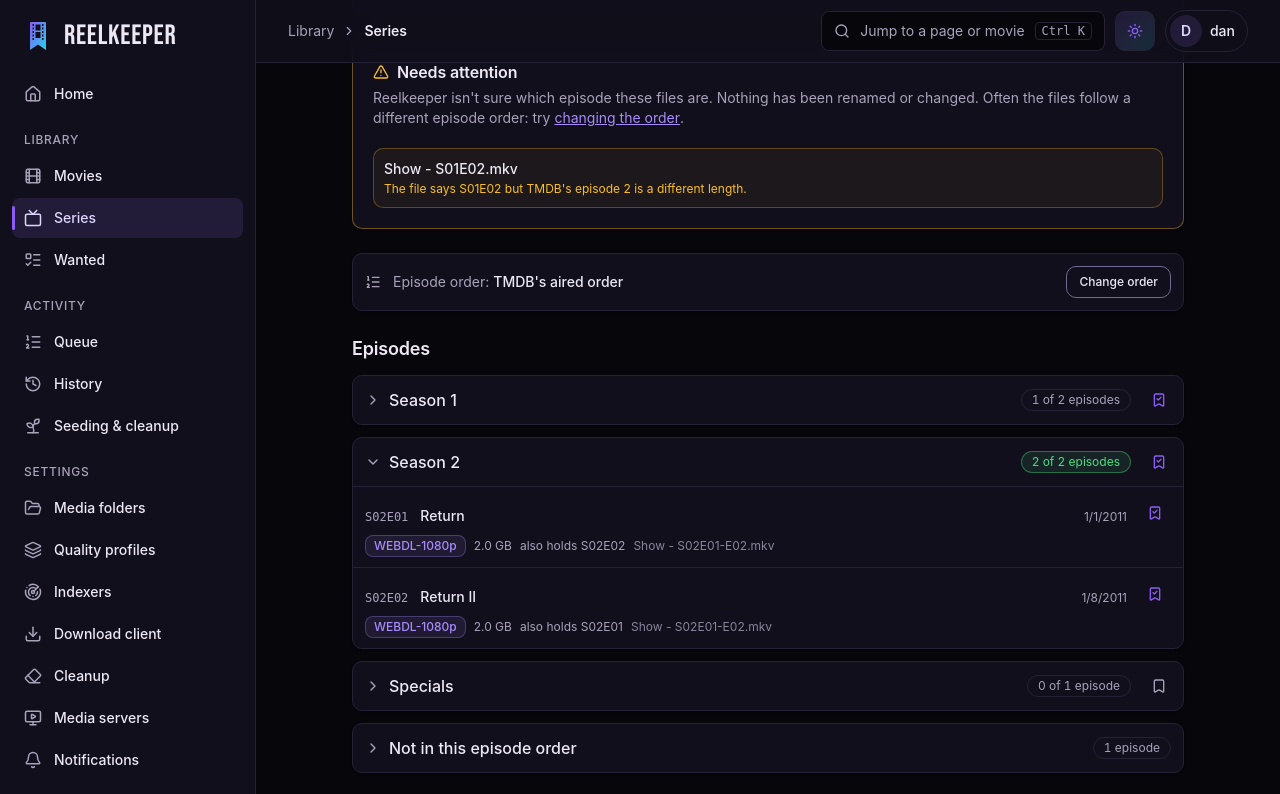
Test: series page › marks missing files
(page scrolled)
Click the button "Season 1 1 of 2 episodes". click: [423, 400]
box: [353,376,1143,424]
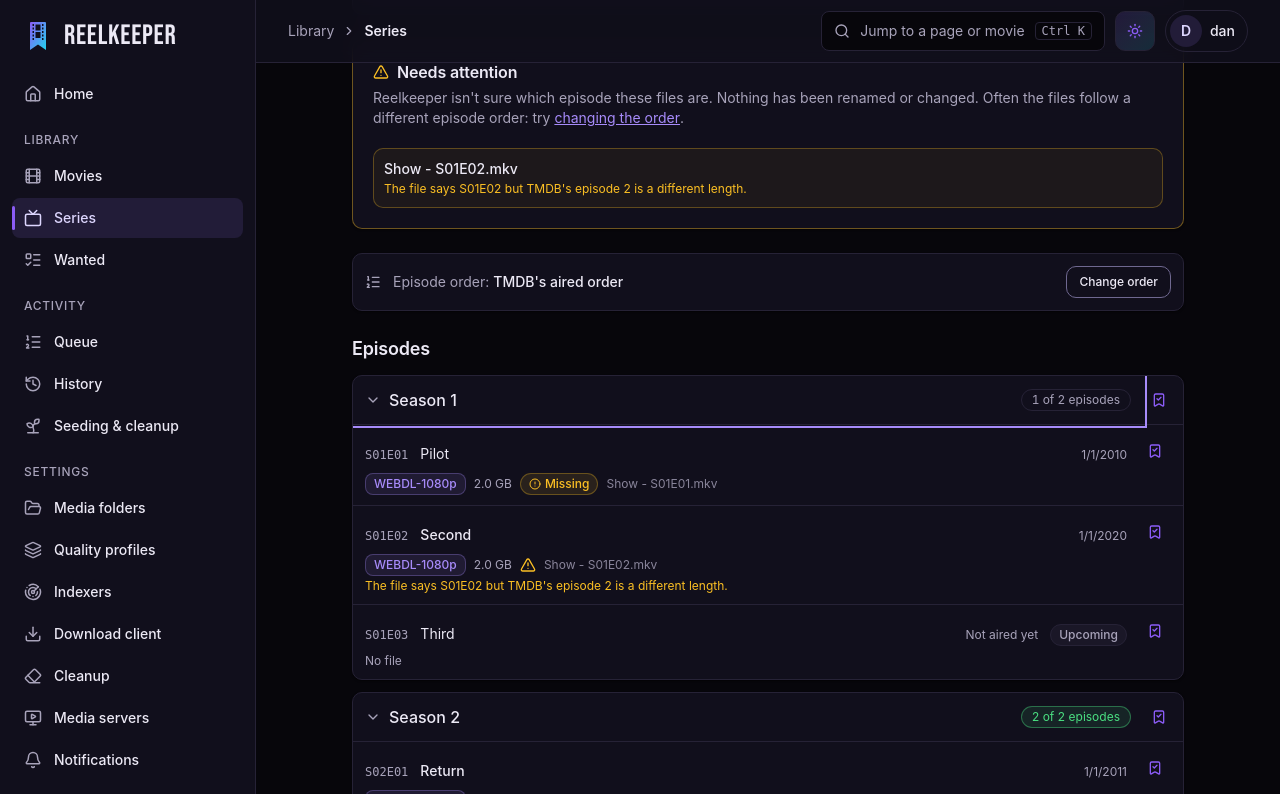
Result: the text "Missing" is shown at [520,473,598,495]
